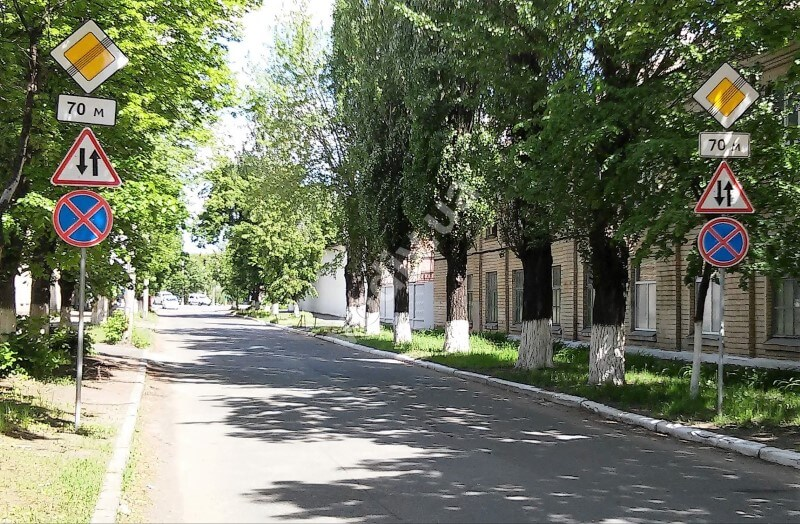1.19.1: (47, 128, 125, 185), (687, 165, 755, 213)
